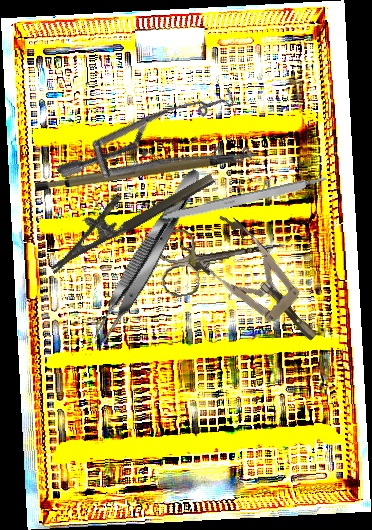Iris Scissors: (154, 212, 291, 300)
Needle Holder: (35, 151, 217, 274)
Scalpel Handle: (35, 152, 258, 194), (158, 174, 329, 226)
Speculum: (54, 45, 275, 263), (178, 206, 336, 363)
Tissue Forceps: (86, 164, 210, 348)
